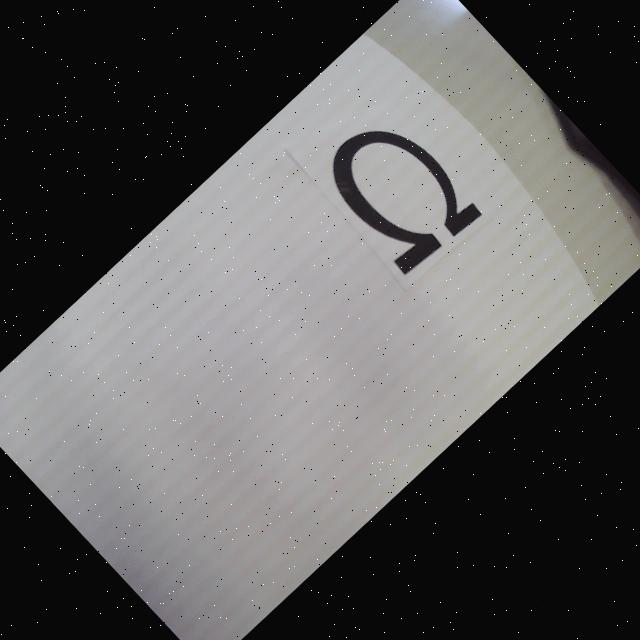OMEGA: (310, 104, 486, 282)
